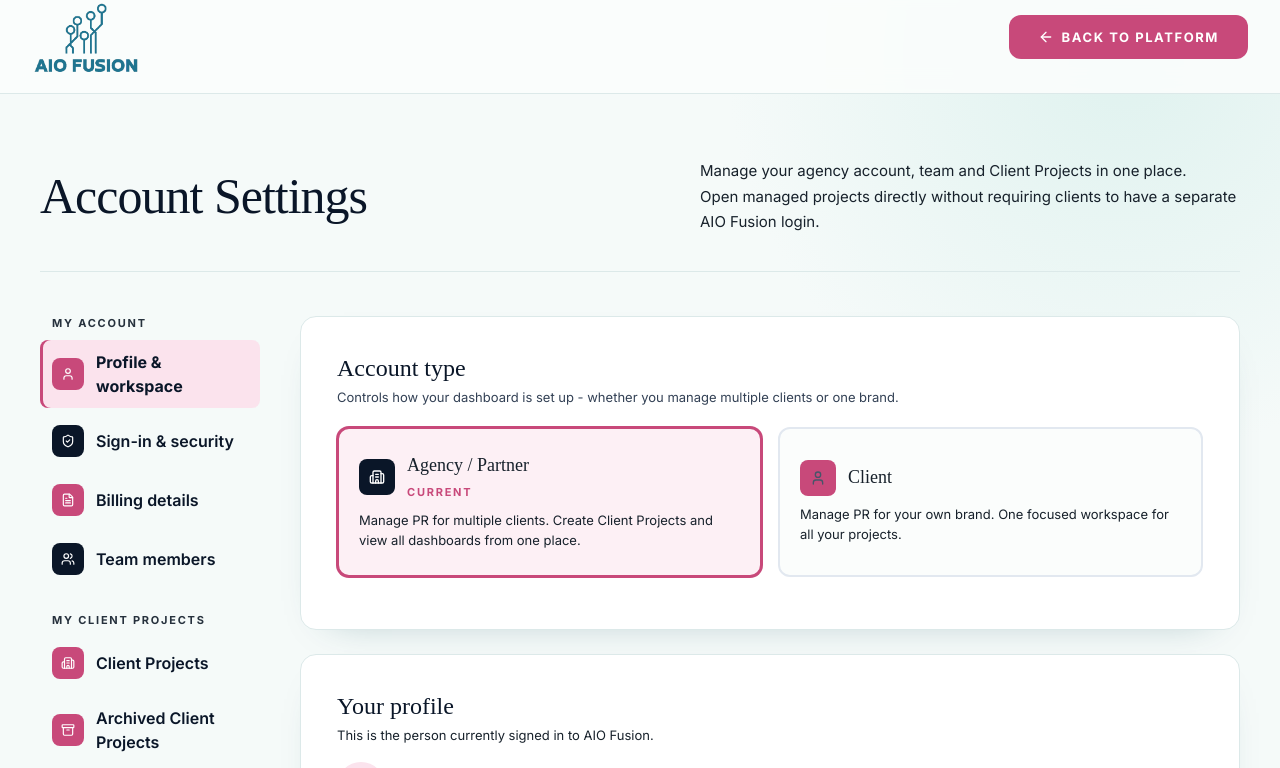
it: agency partner client rows › presents managed clients with direct project actions and no login status or credential controls
This screenshot has width=1280, height=768.
Click the button "Client Projects".
click(150, 663)  # box [40, 637, 260, 689]
(page scrolled)
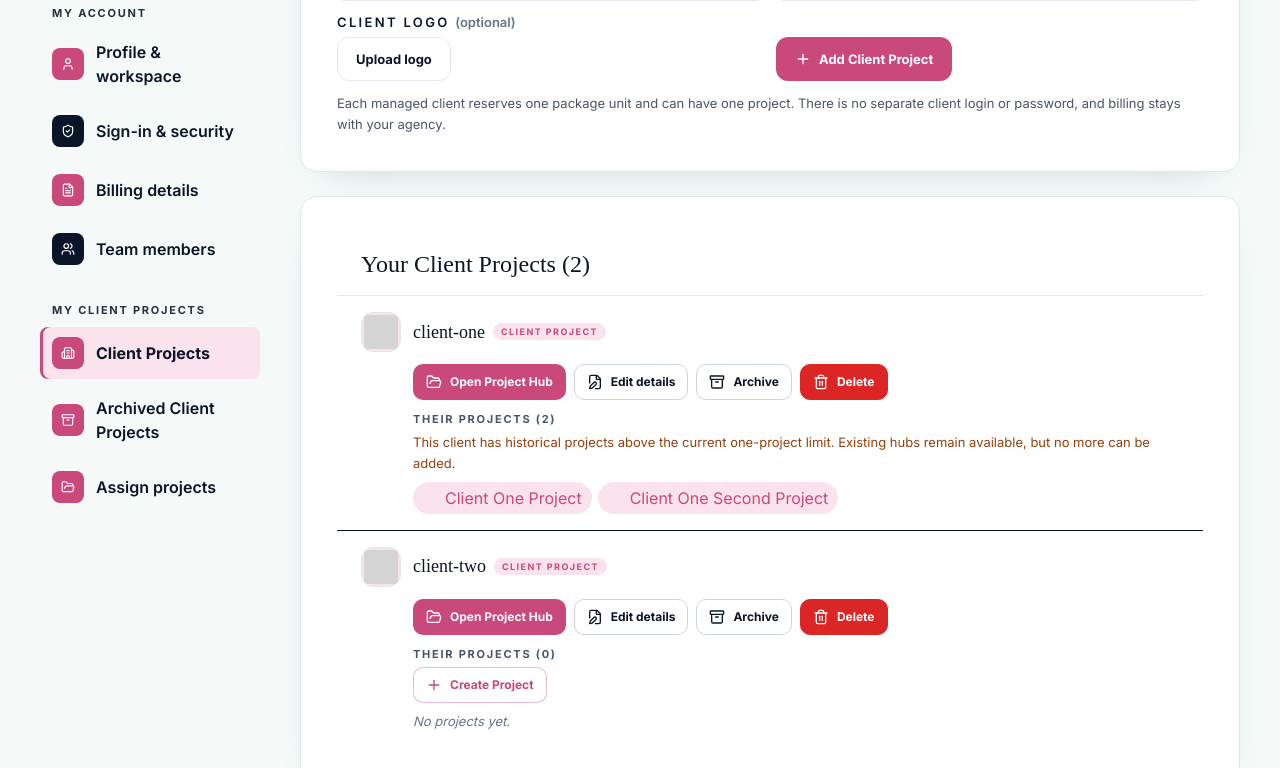
Expected: the button "Archived Client Projects" is shown, [40, 386, 260, 454]
Expected: the number of buttons "Open Project Hub" is 2, [413, 364, 566, 400]; [413, 598, 566, 634]
Expected: the 1st button "Delete" is shown, [800, 364, 888, 400]
